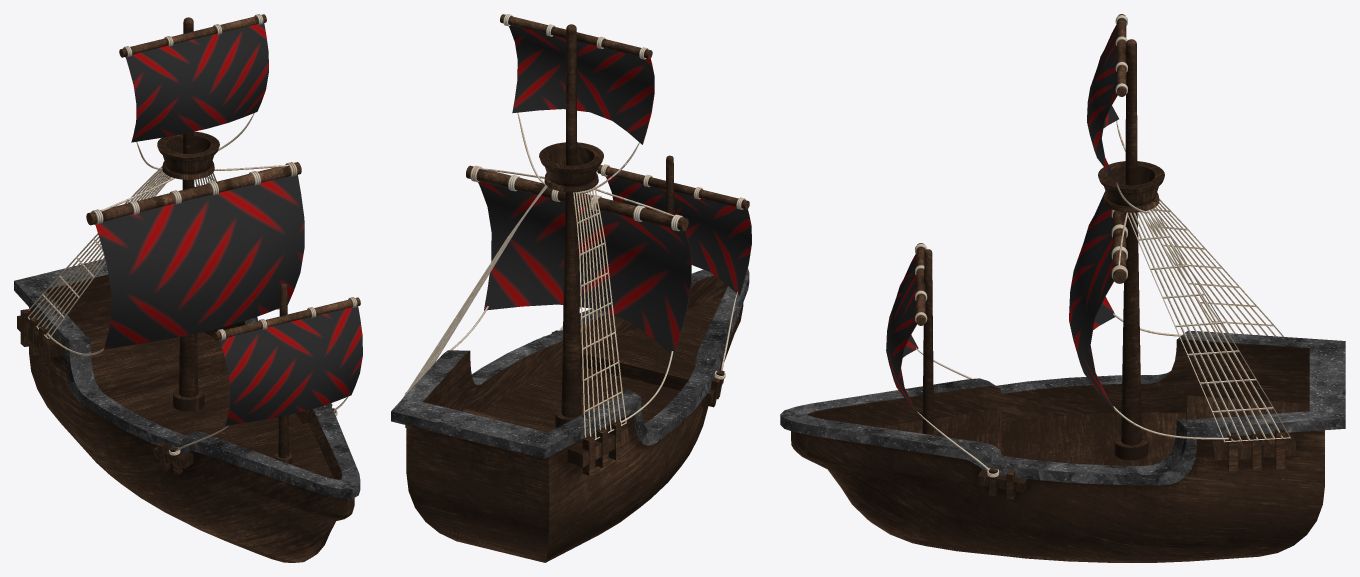
File: Ship_DefaultLarge_01.fbx
3 views of the same model, side by side, from view 1: azimuth 30°, elevation 25°; view 2: azimuth 150°, elevation 25°; view 3: azimuth 270°, elevation 25° (orthographic). The views are drawn at different scales.
Visible parts, largest first — view 1: Ship_DefaultLarge_01; view 2: Ship_DefaultLarge_01; view 3: Ship_DefaultLarge_01.
Part boxes in pixels (left/top/right/bottom): Ship_DefaultLarge_01: left=14, top=14, right=362, bottom=562; Ship_DefaultLarge_01: left=391, top=14, right=751, bottom=562; Ship_DefaultLarge_01: left=780, top=14, right=1345, bottom=562.
Bounding box in the file's own units: 765 × 1659 × 1678.
